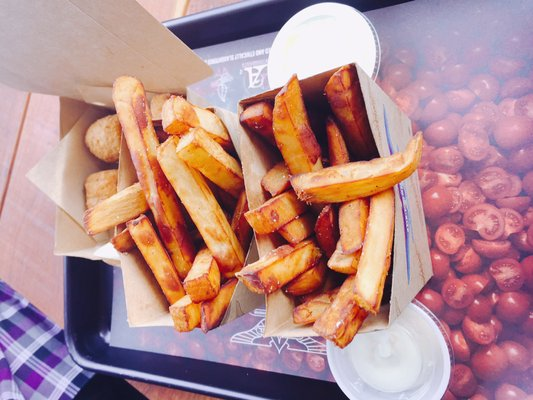curry: (9, 1, 533, 400)
